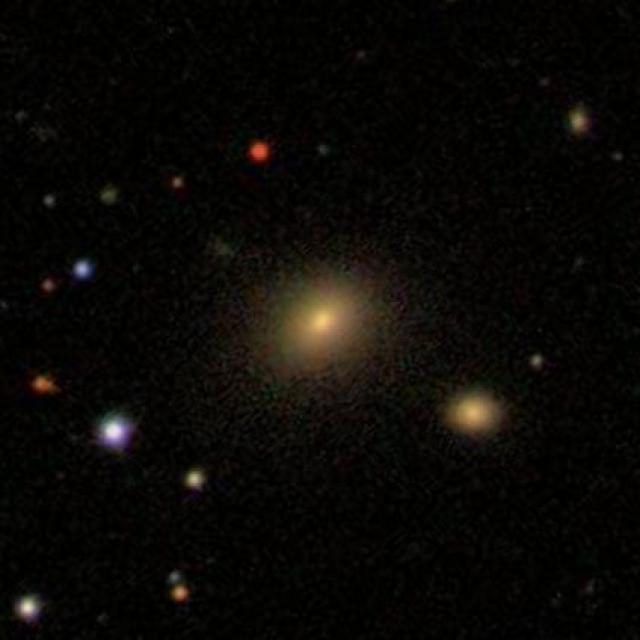galaxy: (194, 223, 426, 435), (436, 385, 521, 452), (93, 404, 144, 458), (198, 222, 239, 261), (11, 590, 50, 625), (244, 131, 274, 169), (564, 107, 598, 139), (31, 371, 67, 398), (95, 182, 126, 213), (182, 466, 212, 495), (525, 348, 553, 378), (71, 256, 95, 282), (167, 171, 187, 195), (170, 582, 189, 602), (168, 566, 185, 586), (614, 150, 626, 168), (43, 278, 57, 292), (319, 146, 332, 160), (45, 194, 56, 208)
